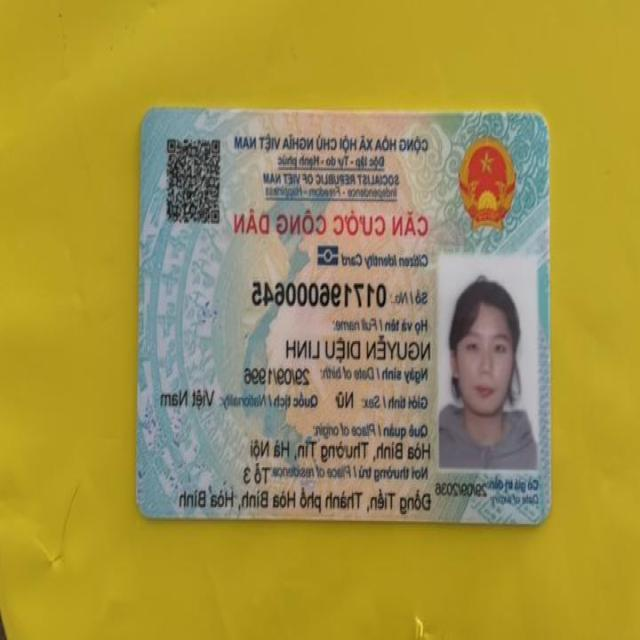bottom_left: (520, 494, 562, 537)
bottom_right: (128, 488, 164, 530)
image_person: (434, 258, 536, 472)
top_left: (520, 101, 562, 147)
top_right: (126, 92, 172, 140)
